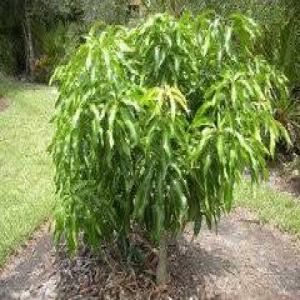Tree: (46, 9, 290, 284)
